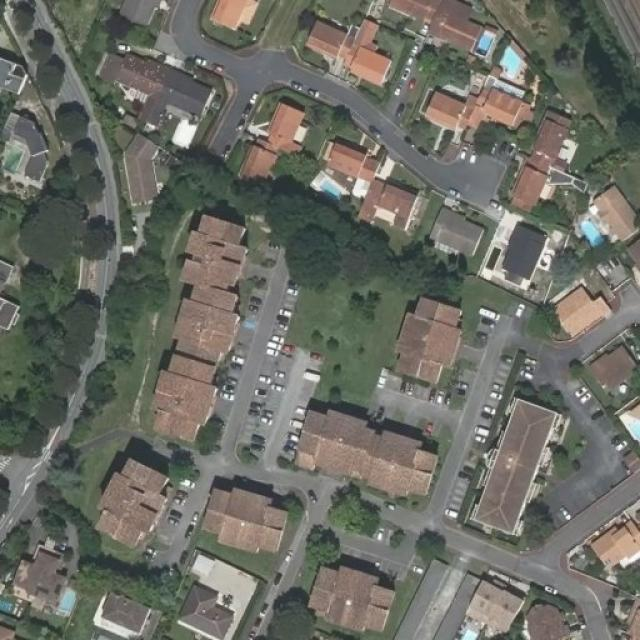immeuble: (144, 200, 250, 420), (476, 384, 560, 542), (286, 414, 440, 498), (421, 58, 553, 155), (98, 42, 216, 136), (500, 111, 581, 212), (304, 6, 399, 89), (198, 470, 292, 553), (0, 536, 90, 622), (86, 467, 176, 549), (305, 554, 396, 629), (406, 280, 479, 364), (390, 0, 495, 58), (120, 128, 170, 210), (350, 180, 428, 232), (488, 222, 550, 287), (572, 510, 640, 569), (0, 102, 47, 186), (174, 579, 237, 639), (86, 586, 154, 640), (426, 201, 487, 255), (548, 291, 613, 339), (0, 55, 39, 94), (101, 0, 154, 9), (397, 0, 461, 2)
maison: (226, 134, 292, 197), (316, 132, 387, 186), (263, 94, 328, 152), (465, 578, 529, 629), (586, 182, 637, 243), (588, 340, 640, 394), (521, 593, 580, 640), (201, 0, 269, 35)
piscine: (47, 581, 89, 622), (306, 171, 356, 203), (493, 42, 529, 80), (578, 218, 607, 248), (473, 22, 495, 58), (617, 407, 640, 441), (458, 614, 488, 640)
